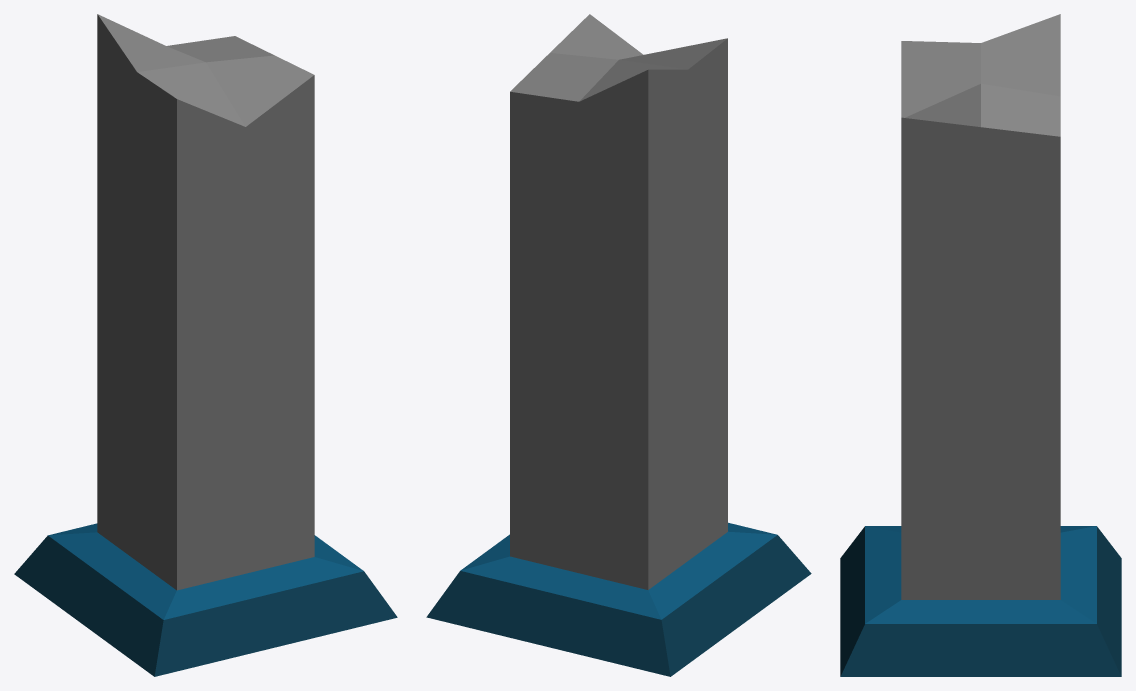
Rendered from pillar_type_07.fbx.
3 renders of one model, left to right at view 1: azimuth 30°, elevation 25°; view 2: azimuth 150°, elevation 25°; view 3: azimuth 270°, elevation 25°, orthographic.
Visible parts, largest first — view 1: pillar_type_07; view 2: pillar_type_07; view 3: pillar_type_07.
Boxes of the visible parts, box(x1,y1,x2,y2) form: pillar_type_07: box(14, 14, 397, 676); pillar_type_07: box(426, 14, 811, 676); pillar_type_07: box(840, 14, 1121, 676).
Bounding box in the file's own units: 61.29 × 137 × 61.29.
